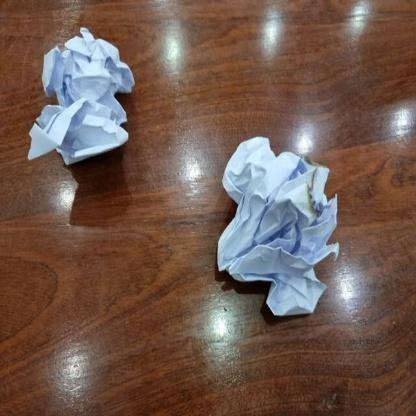trash: (217, 133, 338, 318), (25, 26, 135, 164)
